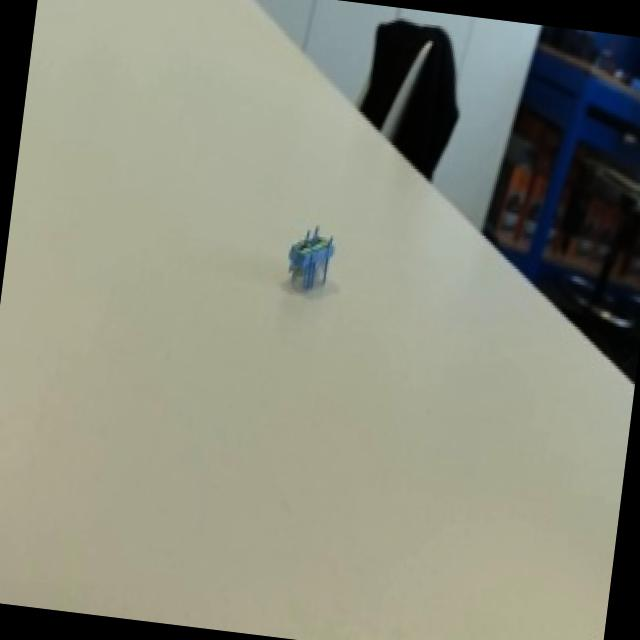3_NanoBug_Celeste: (250, 195, 366, 324)
